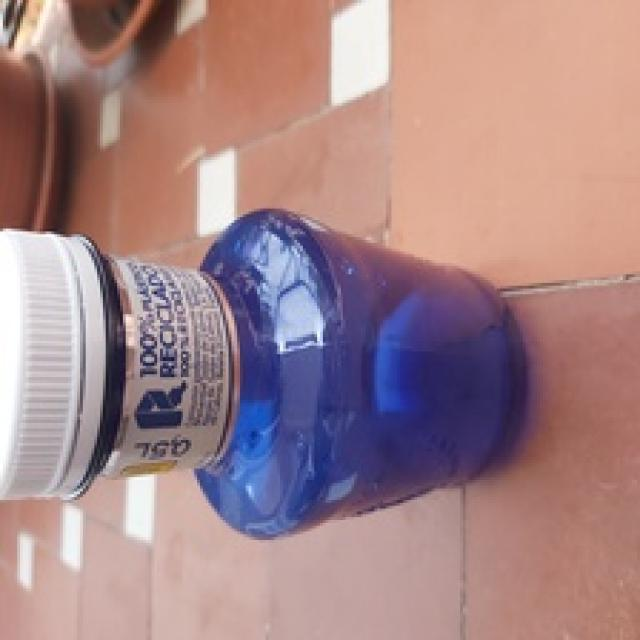Plastic: (0, 205, 530, 541)
